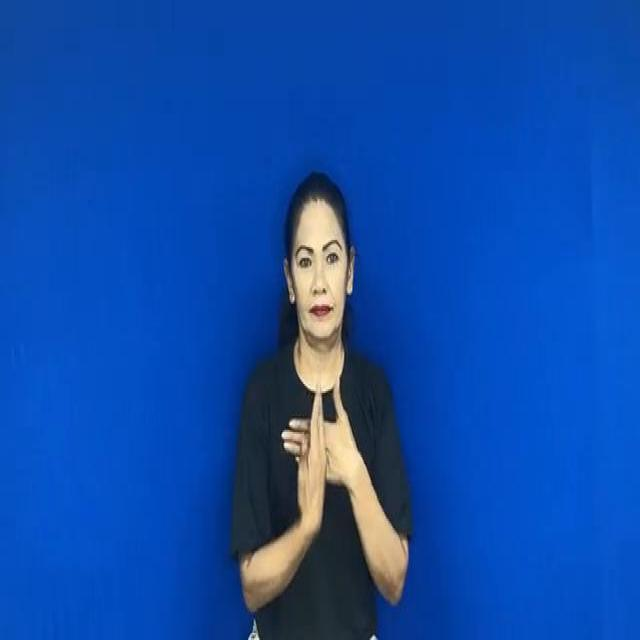bread: (283, 377, 360, 527)
